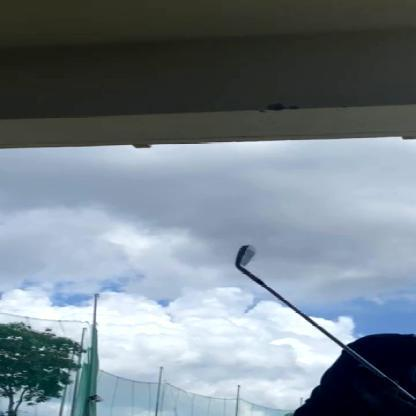GolfBall: (228, 239, 264, 280)
